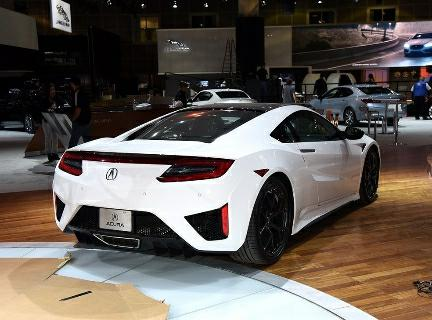car: (45, 79, 386, 270)
